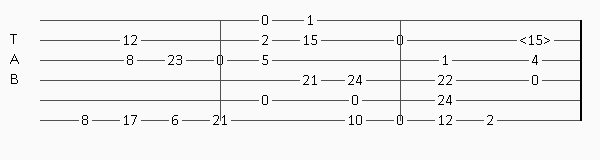0: (216, 53, 228, 67), (261, 13, 273, 27), (261, 93, 273, 107), (351, 93, 363, 107), (396, 113, 408, 127), (396, 33, 408, 47), (531, 73, 543, 87)
1: (306, 13, 318, 27), (441, 53, 453, 67)
10: (347, 113, 367, 127)
12: (122, 33, 142, 47), (437, 113, 457, 127)
15: (302, 33, 322, 47)
17: (122, 113, 142, 127)
2: (261, 33, 273, 47), (486, 113, 498, 127)
21: (212, 113, 232, 127), (302, 73, 322, 87)
22: (437, 73, 457, 87)
23: (167, 53, 187, 67)
24: (347, 73, 367, 87), (437, 93, 457, 107)
4: (531, 53, 543, 67)
5: (261, 53, 273, 67)
6: (171, 113, 183, 127)
8: (81, 113, 93, 127), (126, 53, 138, 67)
harmonic: (519, 33, 555, 47)
